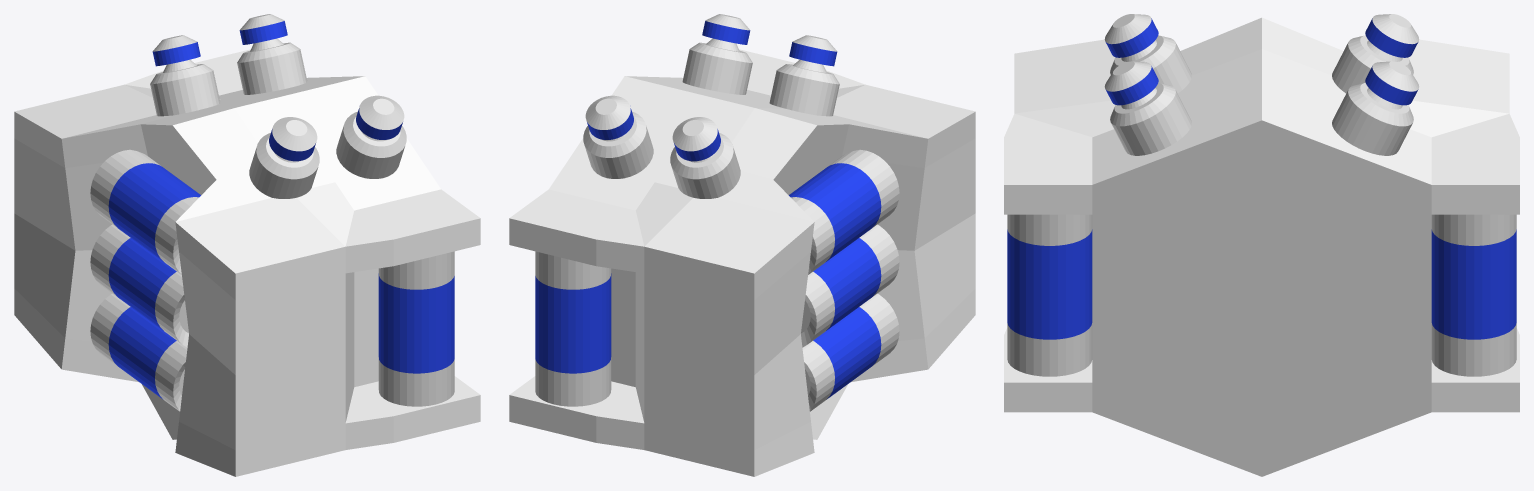
File: Iridium heart.fbx
3 views of the same model, side by side, from view 1: azimuth 30°, elevation 25°; view 2: azimuth 150°, elevation 25°; view 3: azimuth 270°, elevation 25° (orthographic). The views are drawn at different scales.
Parts seen in each view (by area): view 1: Cube; view 2: Cube; view 3: Cube.
Boxes of the visible parts, x1=… form: Cube: x1=14, y1=14, x2=480, y2=476; Cube: x1=509, y1=14, x2=975, y2=476; Cube: x1=1004, y1=14, x2=1519, y2=476.
Size of the model in its own units: 1705 by 2298 by 2759.
Materials: 5 (1 with a texture image).
